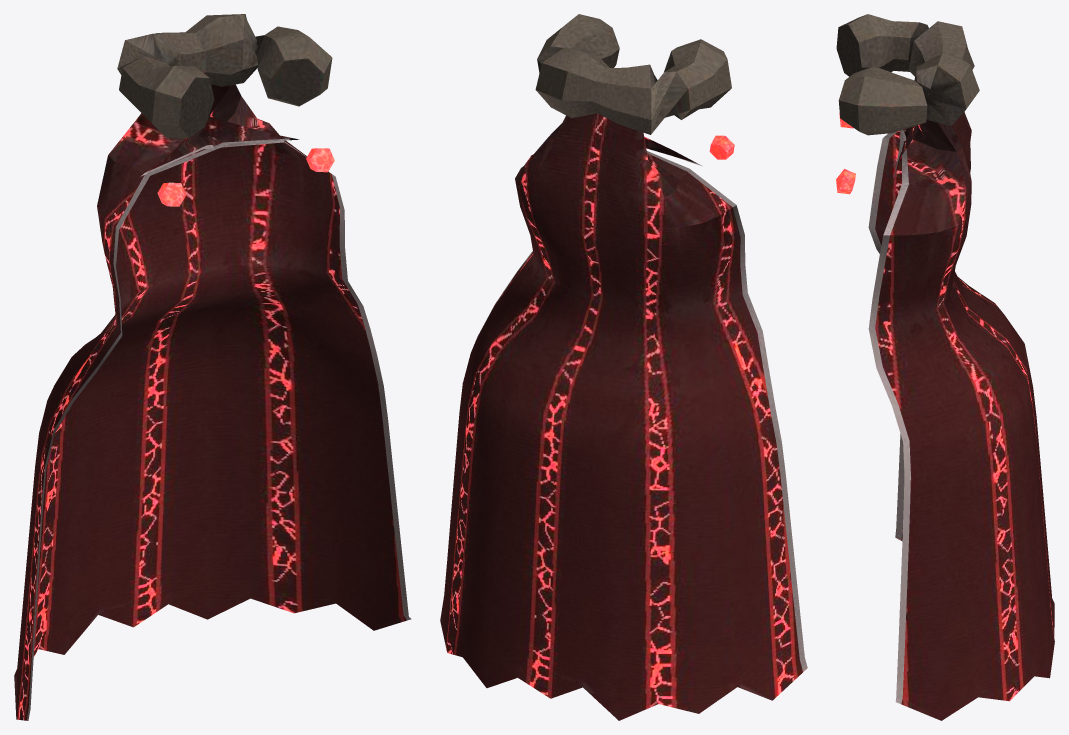
File: Capa_de_Batalha_nivel100.glb
3 views of the same model, side by side, from view 1: azimuth 30°, elevation 25°; view 2: azimuth 150°, elevation 25°; view 3: azimuth 270°, elevation 25° (orthographic). The views are drawn at different scales.
Visible parts, largest first — view 1: capa_de_batalha_nivel100; view 2: capa_de_batalha_nivel100; view 3: capa_de_batalha_nivel100.
Part boxes in pixels (x1,y1,x2,y2): capa_de_batalha_nivel100: (14,14,411,720); capa_de_batalha_nivel100: (440,14,807,720); capa_de_batalha_nivel100: (836,14,1054,720).
Bounding box in the file's own units: 0.7071 × 1.16 × 0.3806.
Materials: 1 (1 with a texture image).
